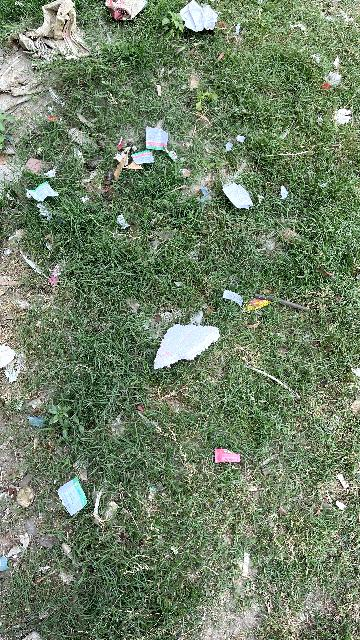cocksheet: (132, 305, 228, 372)
